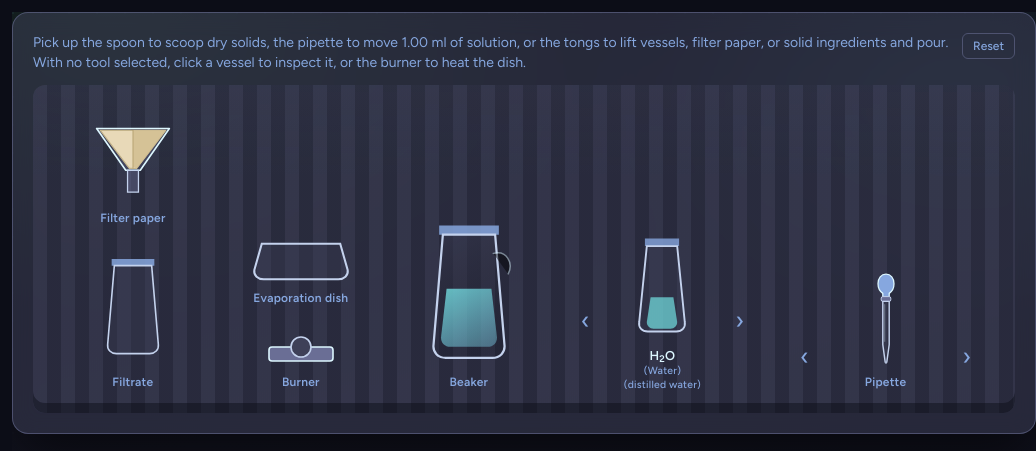
Test case: LabBench load / carousel / layout › does not scoop or inspect when clicking carousel arrows
expect the button "Pipette" is shown: met, box [862,265,910,397]
Click the button named "Next tool" at (967, 357), box [954,335,979,379]
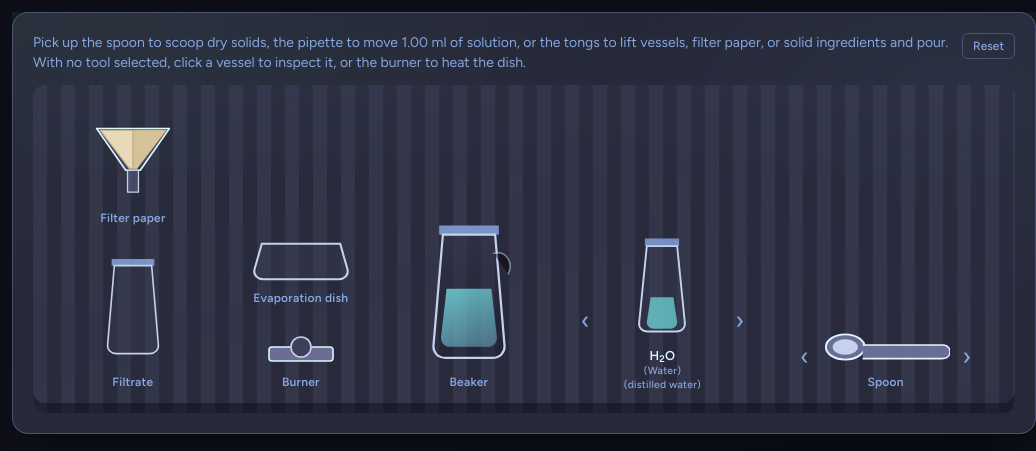
Click the button "Spoon" at (886, 359), box [818,321,953,397]
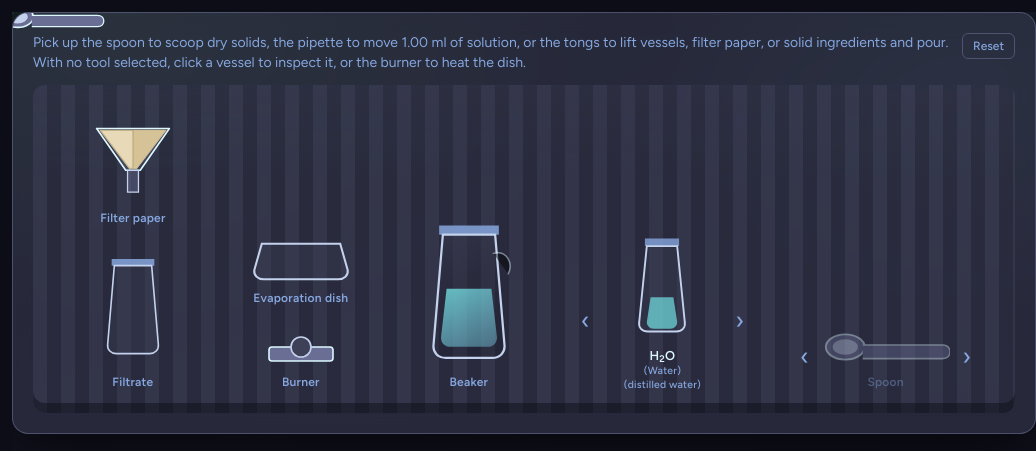
Click the button named "Next ingredient" at (740, 321), box [727,299,752,343]
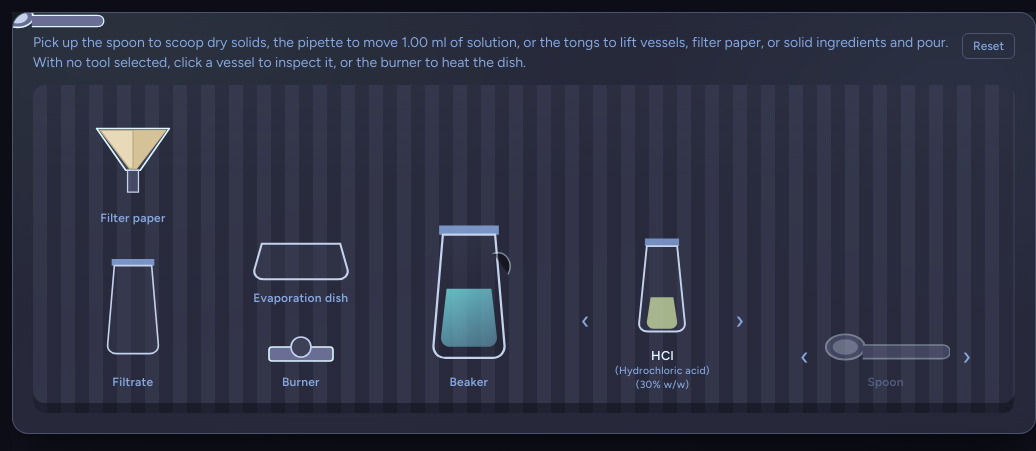
expect the button with aria-label "Hydrochloric acid (30%)" is shown: met, box [612,224,713,397]
